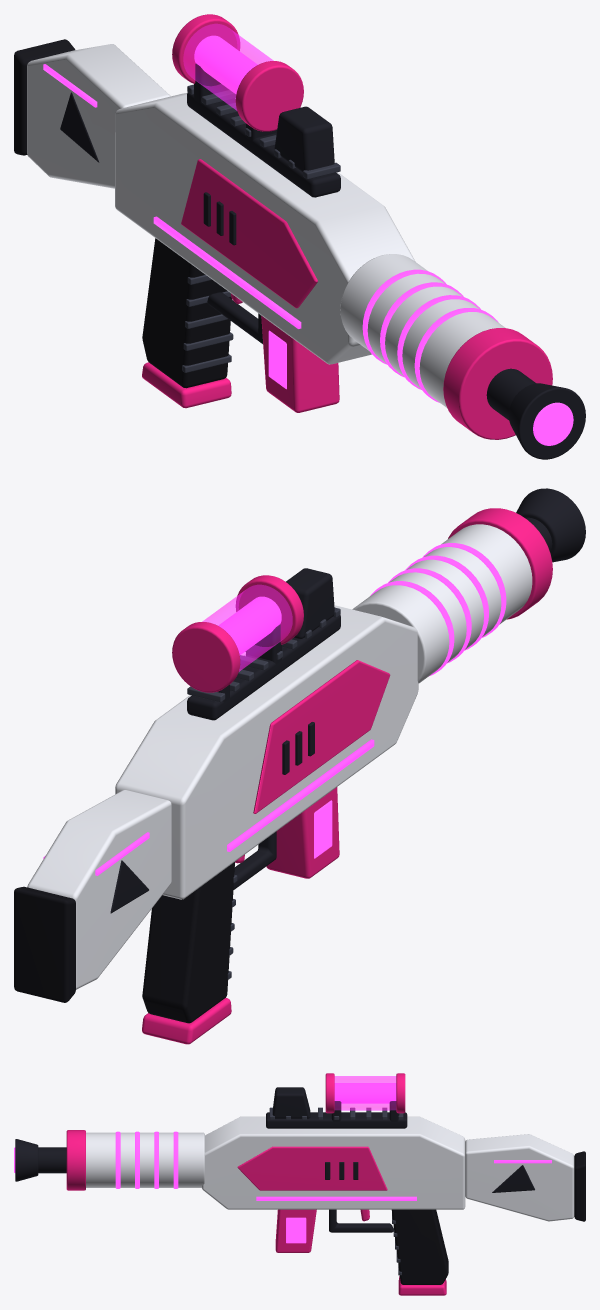
Rendered from PlasmaRifle.fbx.
3 renders of one model, top to bottom at view 1: azimuth 30°, elevation 25°; view 2: azimuth 150°, elevation 25°; view 3: azimuth 270°, elevation 25°, orthographic. The views are drawn at different scales.
Parts seen in each view (by area): view 1: PlasmaRifle_Pro_Plastic_White, PlasmaRifle_Pro_Plastic_Pink, PlasmaRifle_Pro_Plastic_Dark, PlasmaRifle_Pro_Rubber_Grip, PlasmaRifle_Pro_Glow_pink_12, PlasmaRifle_Pro_Glass_pink_0.35, PlasmaRifle_Pro_Plastic_Grey; view 2: PlasmaRifle_Pro_Plastic_White, PlasmaRifle_Pro_Plastic_Pink, PlasmaRifle_Pro_Rubber_Grip, PlasmaRifle_Pro_Plastic_Dark, PlasmaRifle_Pro_Glow_pink_12, PlasmaRifle_Pro_Glass_pink_0.35, PlasmaRifle_Pro_Plastic_Grey; view 3: PlasmaRifle_Pro_Plastic_White, PlasmaRifle_Pro_Plastic_Pink, PlasmaRifle_Pro_Plastic_Dark, PlasmaRifle_Pro_Rubber_Grip, PlasmaRifle_Pro_Glow_pink_12, PlasmaRifle_Pro_Glass_pink_0.35, PlasmaRifle_Pro_Plastic_Grey.
Part boxes in pixels (x1,y1,x2,y2): PlasmaRifle_Pro_Plastic_White: [27, 44, 505, 407]; PlasmaRifle_Pro_Plastic_Pink: [142, 14, 552, 439]; PlasmaRifle_Pro_Plastic_Dark: [60, 63, 585, 459]; PlasmaRifle_Pro_Rubber_Grip: [14, 39, 232, 388]; PlasmaRifle_Pro_Glow_pink_12: [43, 35, 573, 445]; PlasmaRifle_Pro_Glass_pink_0.35: [183, 24, 273, 110]; PlasmaRifle_Pro_Plastic_Grey: [182, 84, 340, 372]; PlasmaRifle_Pro_Plastic_White: [27, 524, 532, 989]; PlasmaRifle_Pro_Plastic_Pink: [142, 508, 552, 1044]; PlasmaRifle_Pro_Rubber_Grip: [14, 862, 234, 1023]; PlasmaRifle_Pro_Plastic_Dark: [110, 488, 585, 913]; PlasmaRifle_Pro_Glow_pink_12: [43, 543, 506, 875]; PlasmaRifle_Pro_Glass_pink_0.35: [202, 585, 292, 671]; PlasmaRifle_Pro_Plastic_Grey: [187, 607, 340, 979]; PlasmaRifle_Pro_Plastic_White: [86, 1116, 574, 1221]; PlasmaRifle_Pro_Plastic_Pink: [66, 1073, 446, 1295]; PlasmaRifle_Pro_Plastic_Dark: [15, 1087, 534, 1232]; PlasmaRifle_Pro_Rubber_Grip: [391, 1151, 585, 1284]; PlasmaRifle_Pro_Glow_pink_12: [14, 1083, 551, 1243]; PlasmaRifle_Pro_Glass_pink_0.35: [334, 1076, 396, 1110]; PlasmaRifle_Pro_Plastic_Grey: [269, 1107, 403, 1275].
Size of the model in its own units: 0.094 by 0.368 by 0.89.
